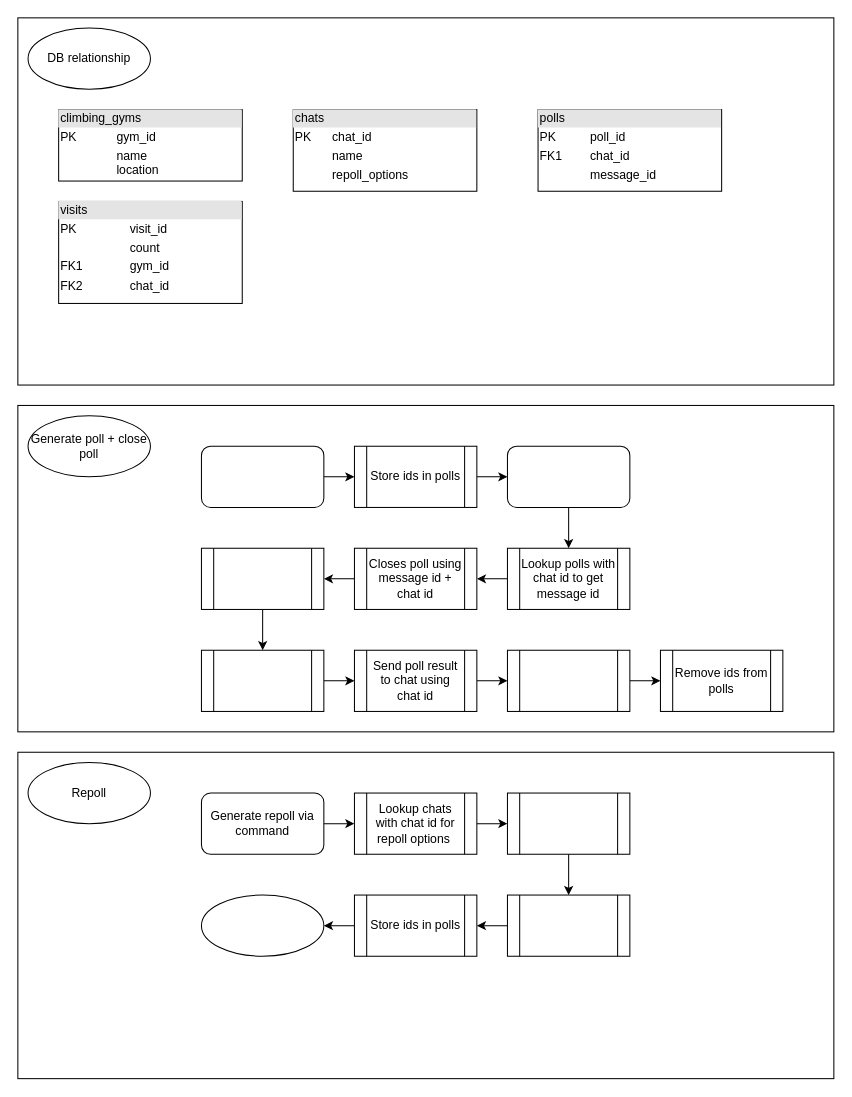
Image size: 852x1097. Some labels were removed from this diagram. The shapes that lost their labels are listed below. From the top down, each one's centre as x and y in pixels, then its label:
At (262,476): "Generate poll via command".
At (568,476): "User votes finish and closes poll via command".
At (262,578): "Closing poll triggers get_poll_results".
At (262,680): "Lookup polls with poll id to get chat id".
At (568,680): "Store repoll options for repolling".
At (568,823): "Send poll with repoll options".
At (262,925): "Generate + close poll workflow".
At (568,925): "Clear repoll options".
